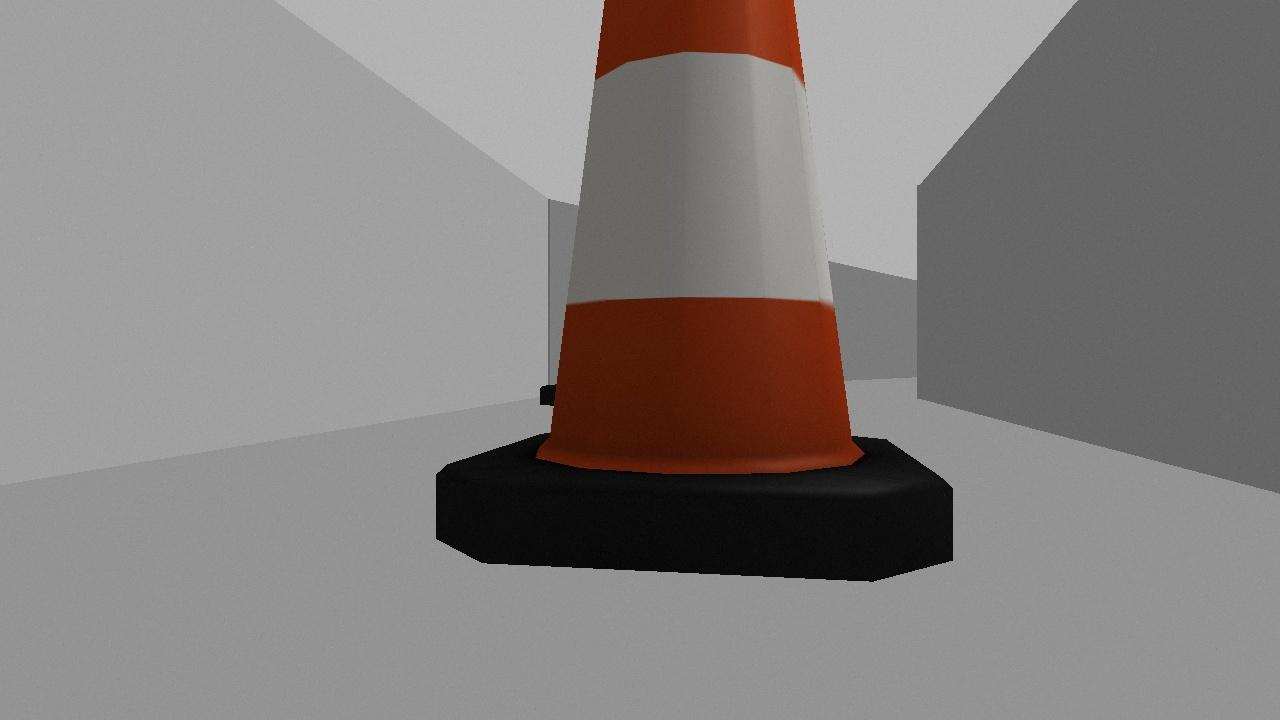cone_barrel: (436, 0, 955, 582)
